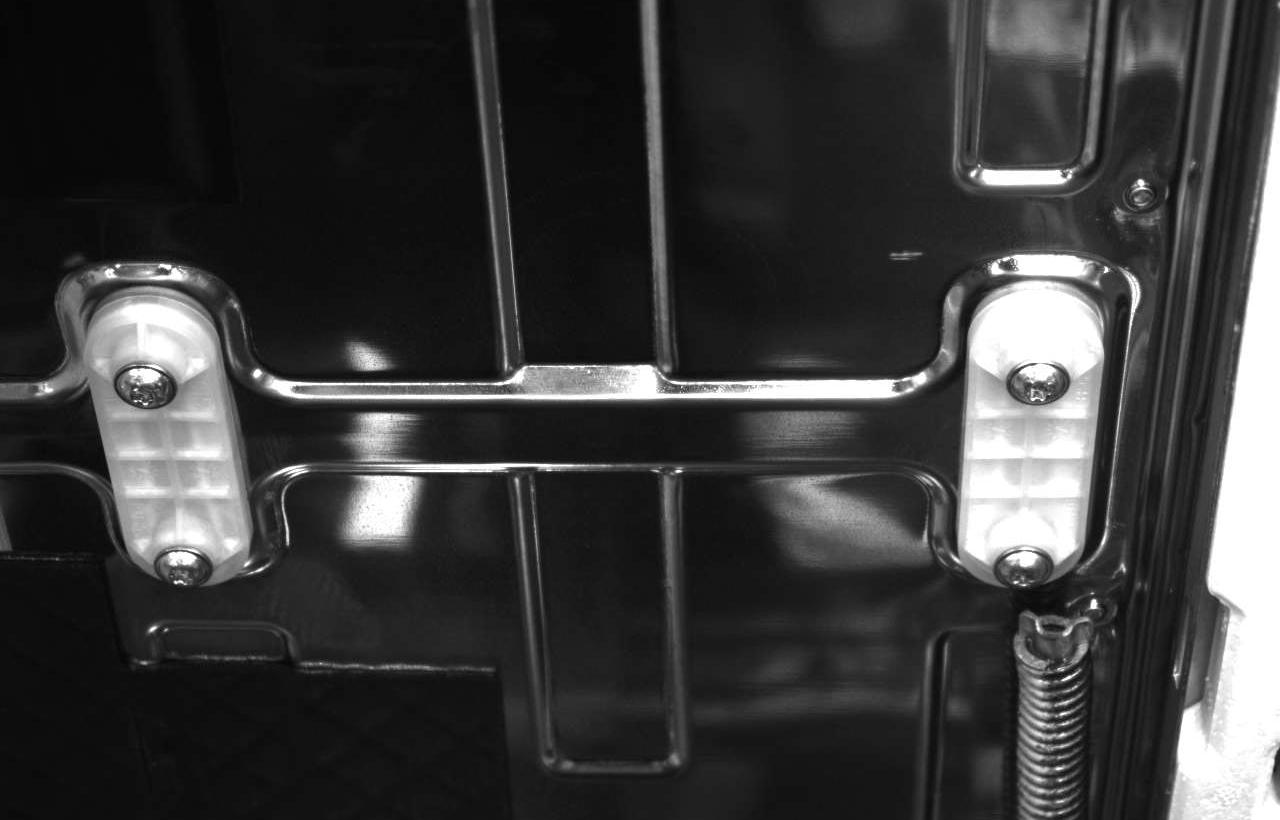vida-ok: (111, 347, 183, 414), (1009, 344, 1076, 411), (993, 537, 1059, 595), (149, 537, 214, 595)
